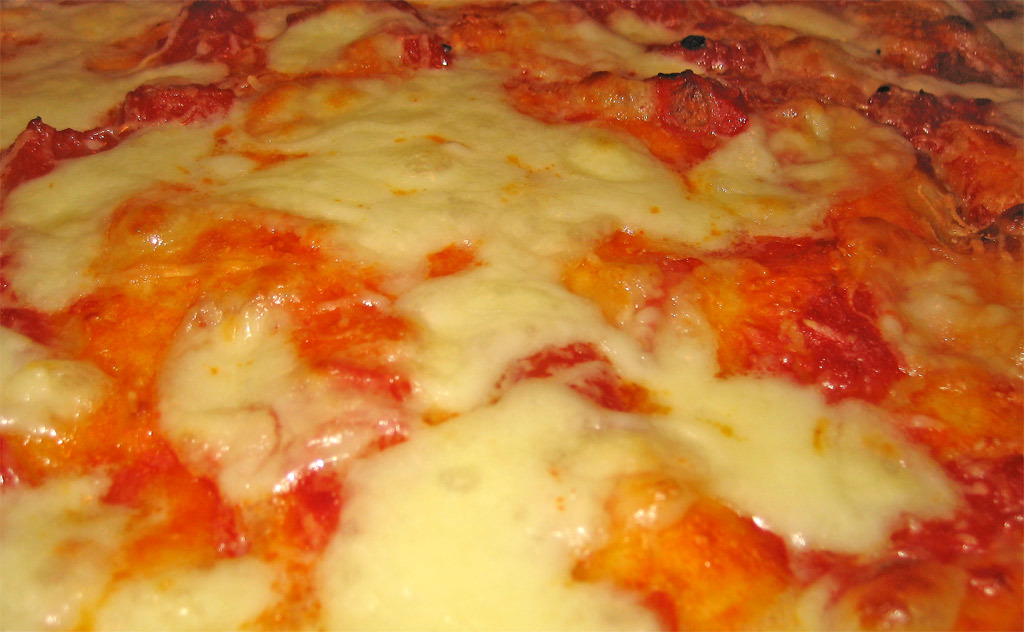Pizza: (0, 7, 1020, 627)
